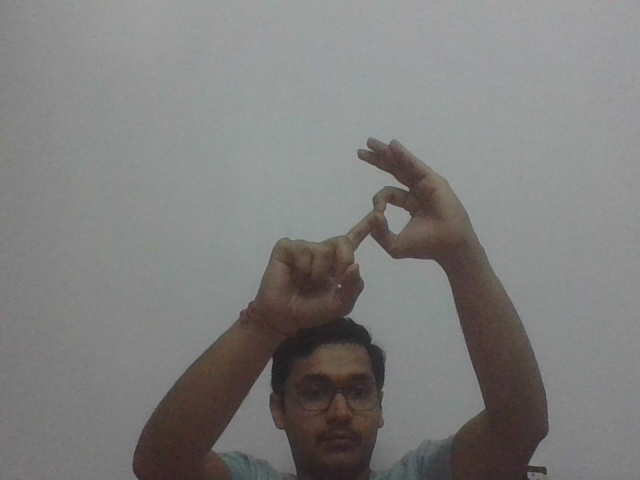Q: (257, 134, 460, 329)
